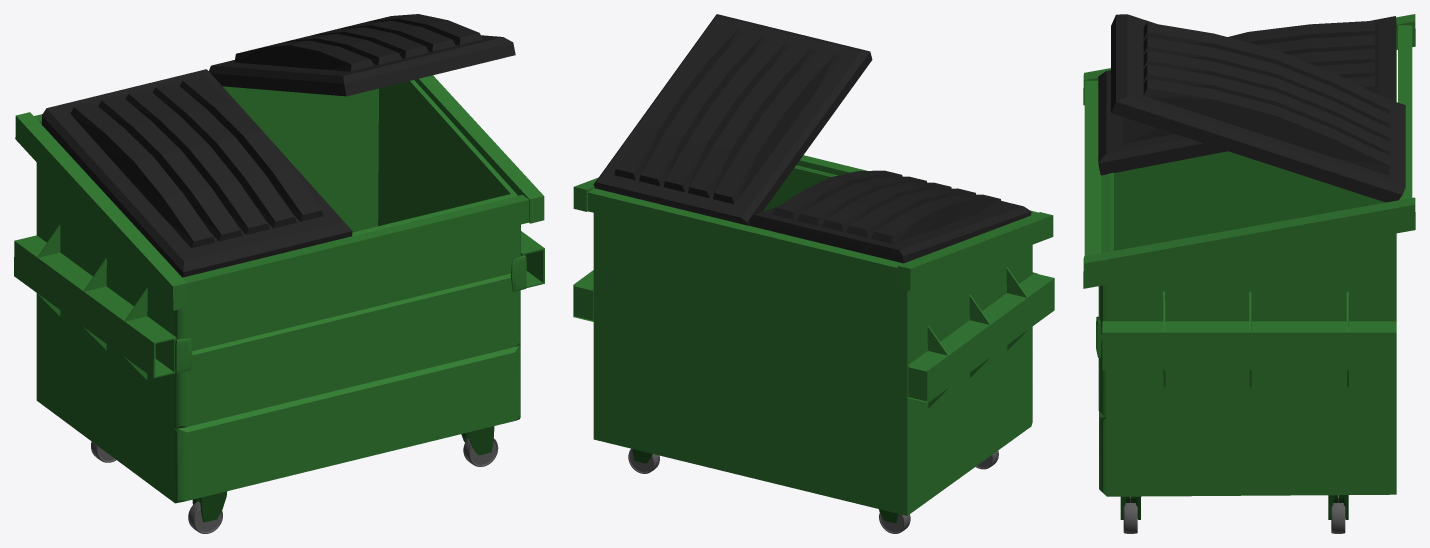
Rendered from Dumpster.fbx.
3 renders of one model, left to right at view 1: azimuth 30°, elevation 25°; view 2: azimuth 150°, elevation 25°; view 3: azimuth 270°, elevation 25°, orthographic. The views are drawn at different scales.
Parts seen in each view (by area): view 1: Dumpster:polySurface14, Dumpster:pCube18, Dumpster:pCube17; view 2: Dumpster:polySurface14, Dumpster:pCube17, Dumpster:pCube18; view 3: Dumpster:polySurface14, Dumpster:pCube17, Dumpster:pCube18.
Part boxes in pixels (x1=…): Dumpster:polySurface14: x1=14, y1=75, x2=544, y2=533; Dumpster:pCube18: x1=42, y1=69, x2=352, y2=277; Dumpster:pCube17: x1=209, y1=14, x2=515, y2=96; Dumpster:polySurface14: x1=573, y1=155, x2=1054, y2=533; Dumpster:pCube17: x1=593, y1=14, x2=872, y2=225; Dumpster:pCube18: x1=749, y1=170, x2=1031, y2=263; Dumpster:polySurface14: x1=1083, y1=14, x2=1415, y2=533; Dumpster:pCube17: x1=1111, y1=14, x2=1405, y2=202; Dumpster:pCube18: x1=1098, y1=16, x2=1396, y2=175.
Bounding box in the file's own units: 5.16 × 5.35 × 3.61.
